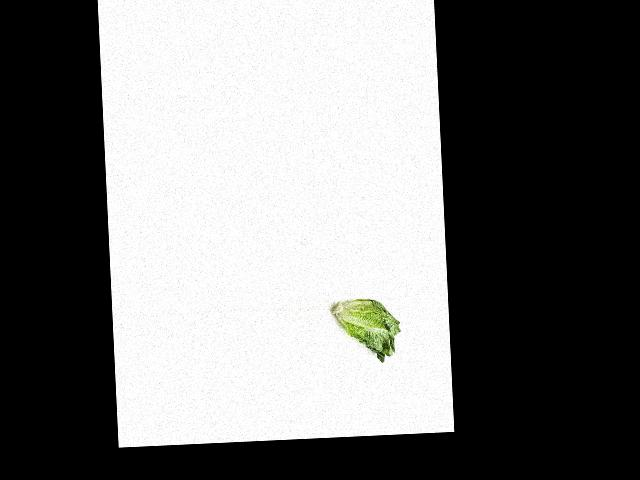lettuce: (333, 294, 404, 364)
